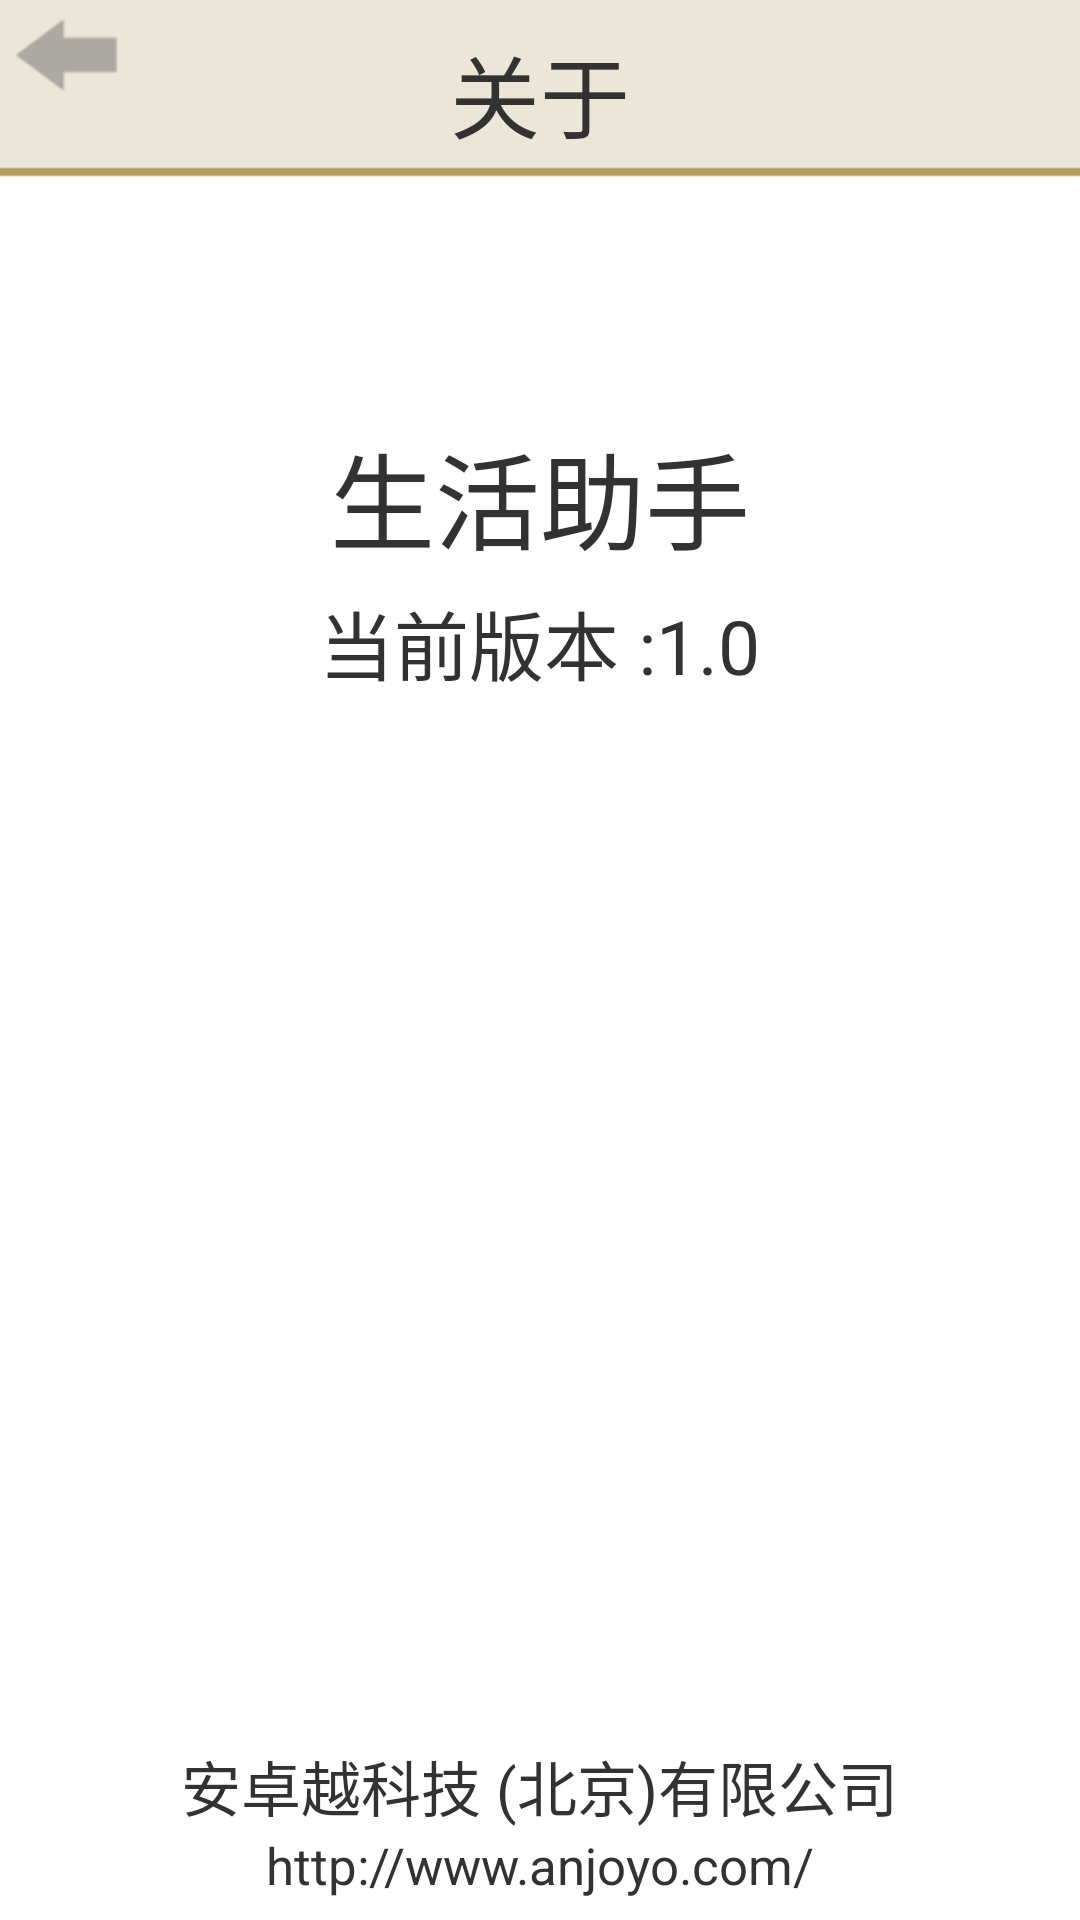

Point at icon controls on the screen. Image size 1080 x 1920, points as point (x, y).
contents back: point (67, 54)
